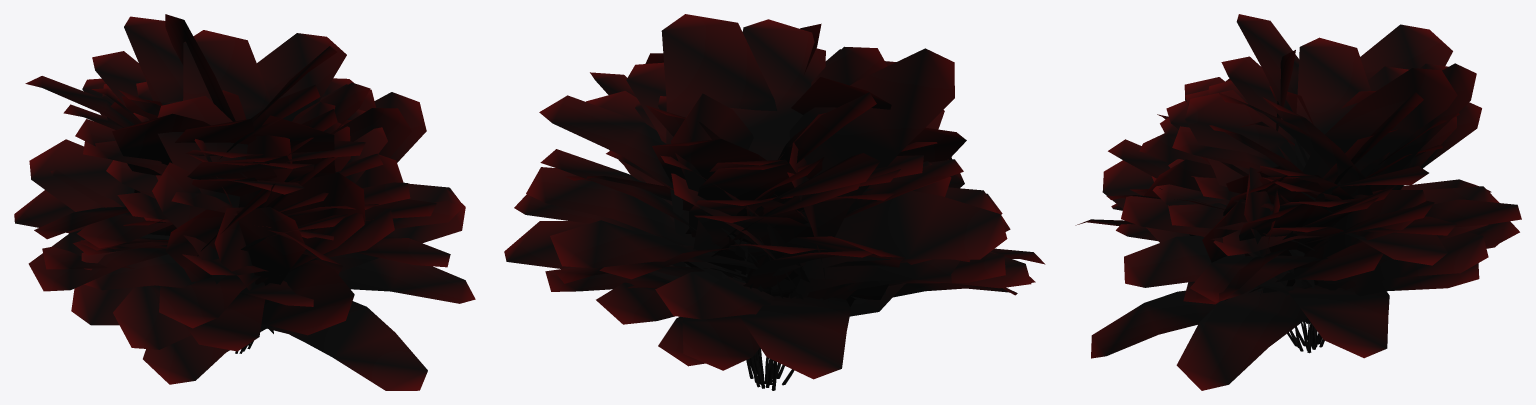
File: Bush01C.fbx
3 renders of one model, left to right at view 1: azimuth 30°, elevation 25°; view 2: azimuth 150°, elevation 25°; view 3: azimuth 270°, elevation 25°, orthographic. The views are drawn at different scales.
Visible parts, largest first — view 1: Bush01C; view 2: Bush01C; view 3: Bush01C.
Boxes of the visible parts, left/top/right/bottom form: Bush01C: left=14, top=14, right=475, bottom=390; Bush01C: left=504, top=14, right=1045, bottom=390; Bush01C: left=1075, top=14, right=1521, bottom=390.
Bounding box in the file's own units: 3.12 × 2.1 × 3.04.
